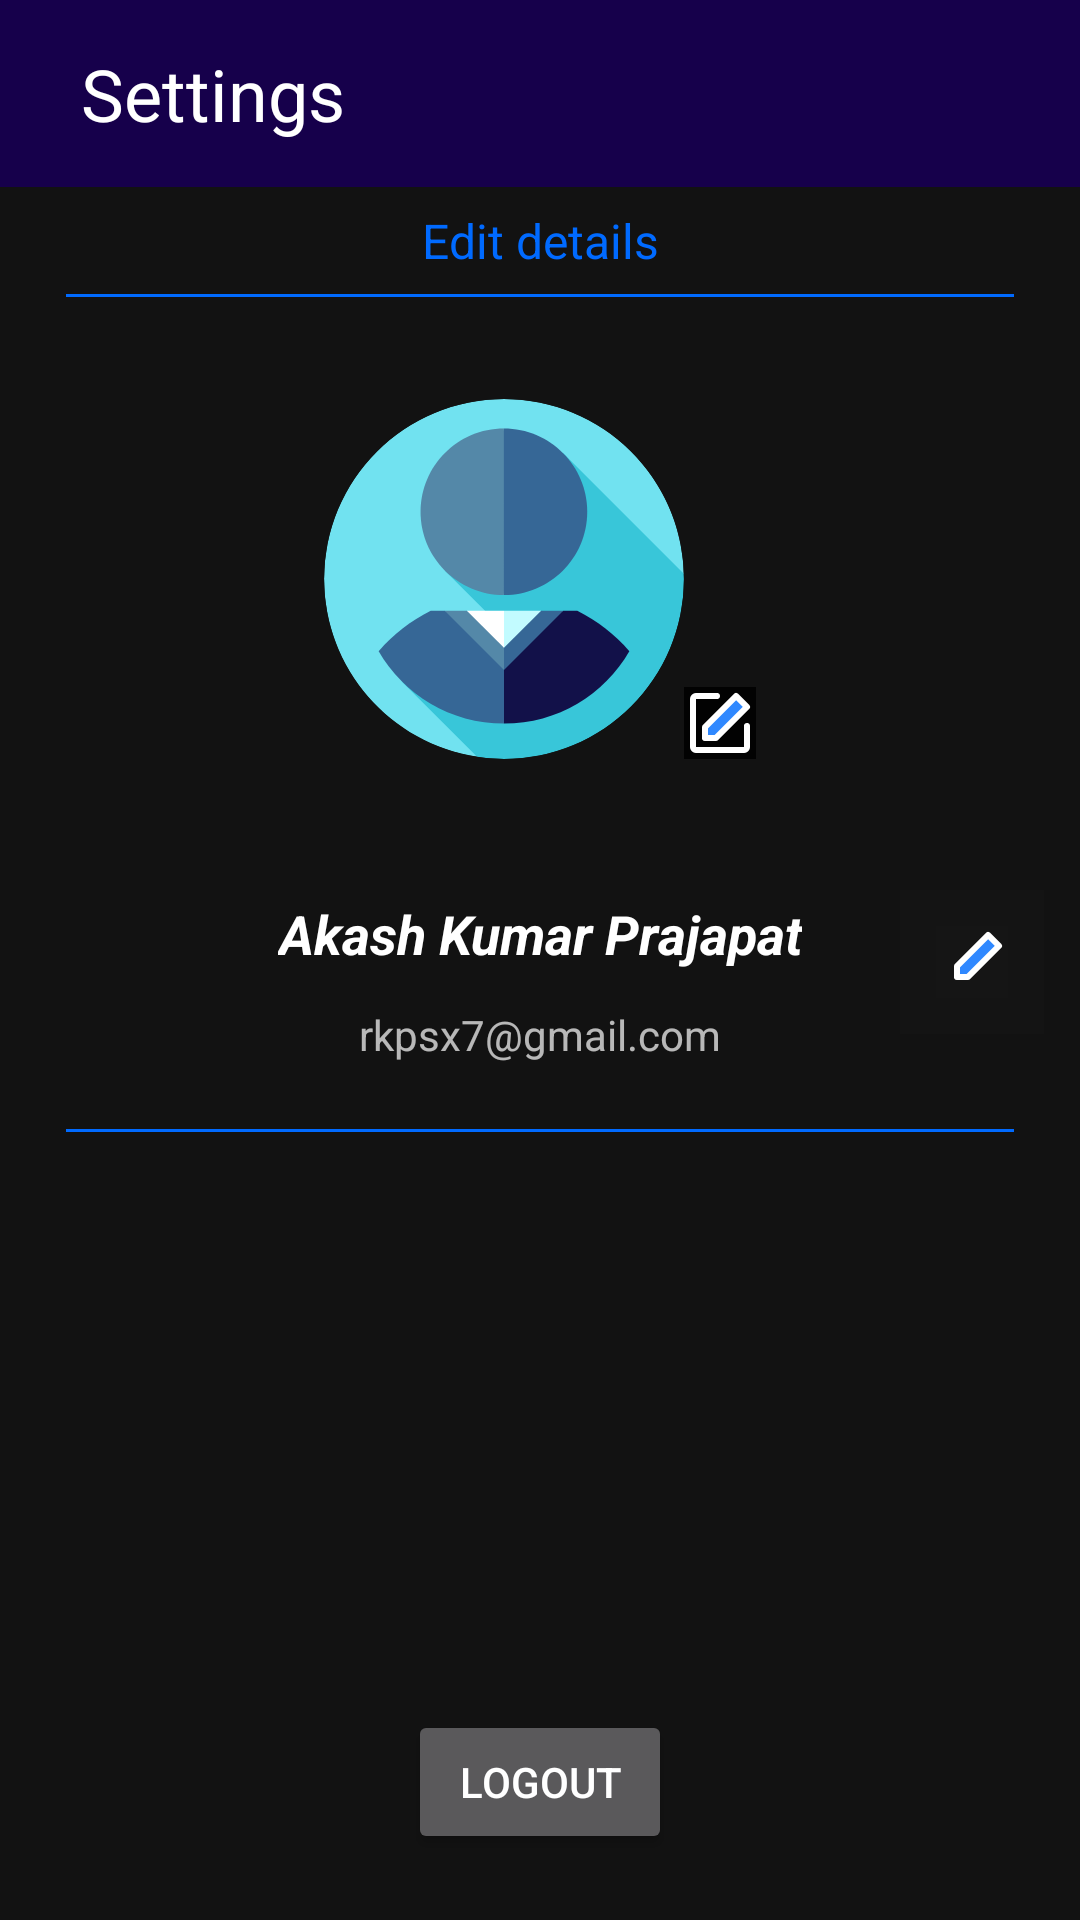

Screen size 1080 x 1920. Icon name, then its center in pixels as (x=x, y=y):
edit: (x=720, y=723), (x=978, y=956)
user colorful: (x=504, y=579)
